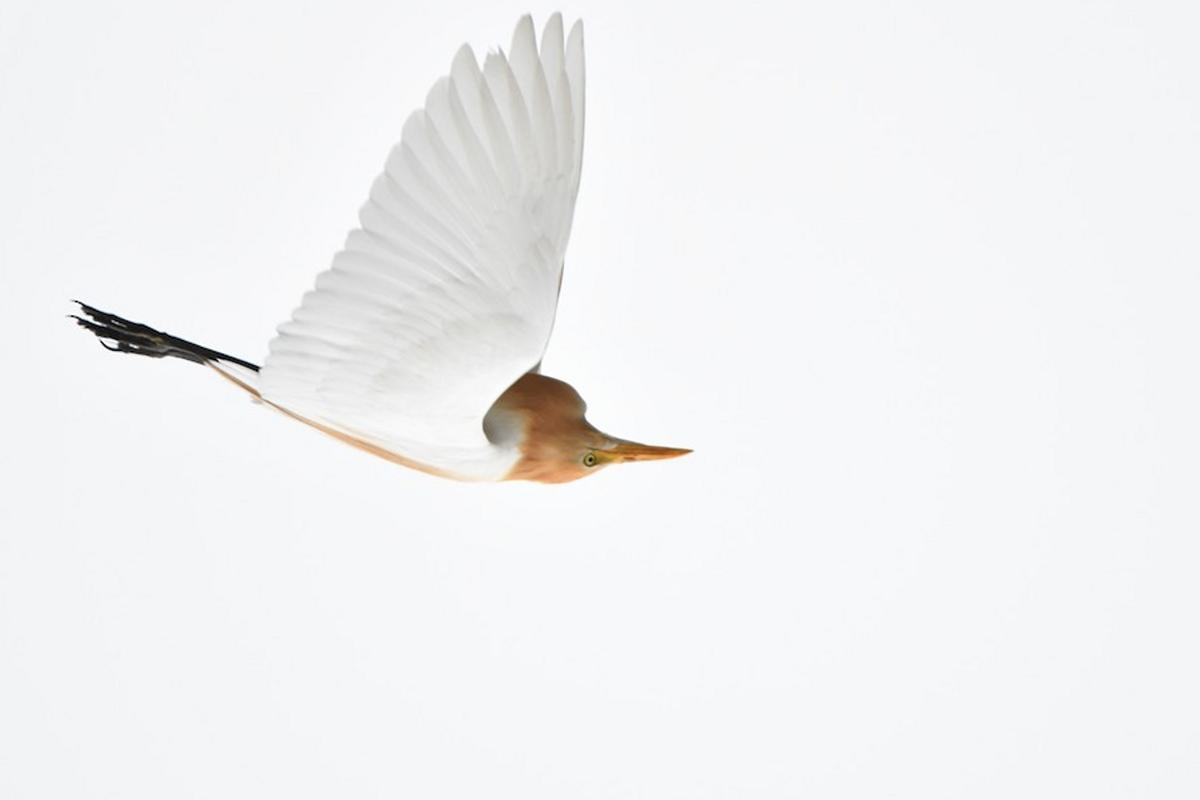egret: (86, 21, 714, 494)
